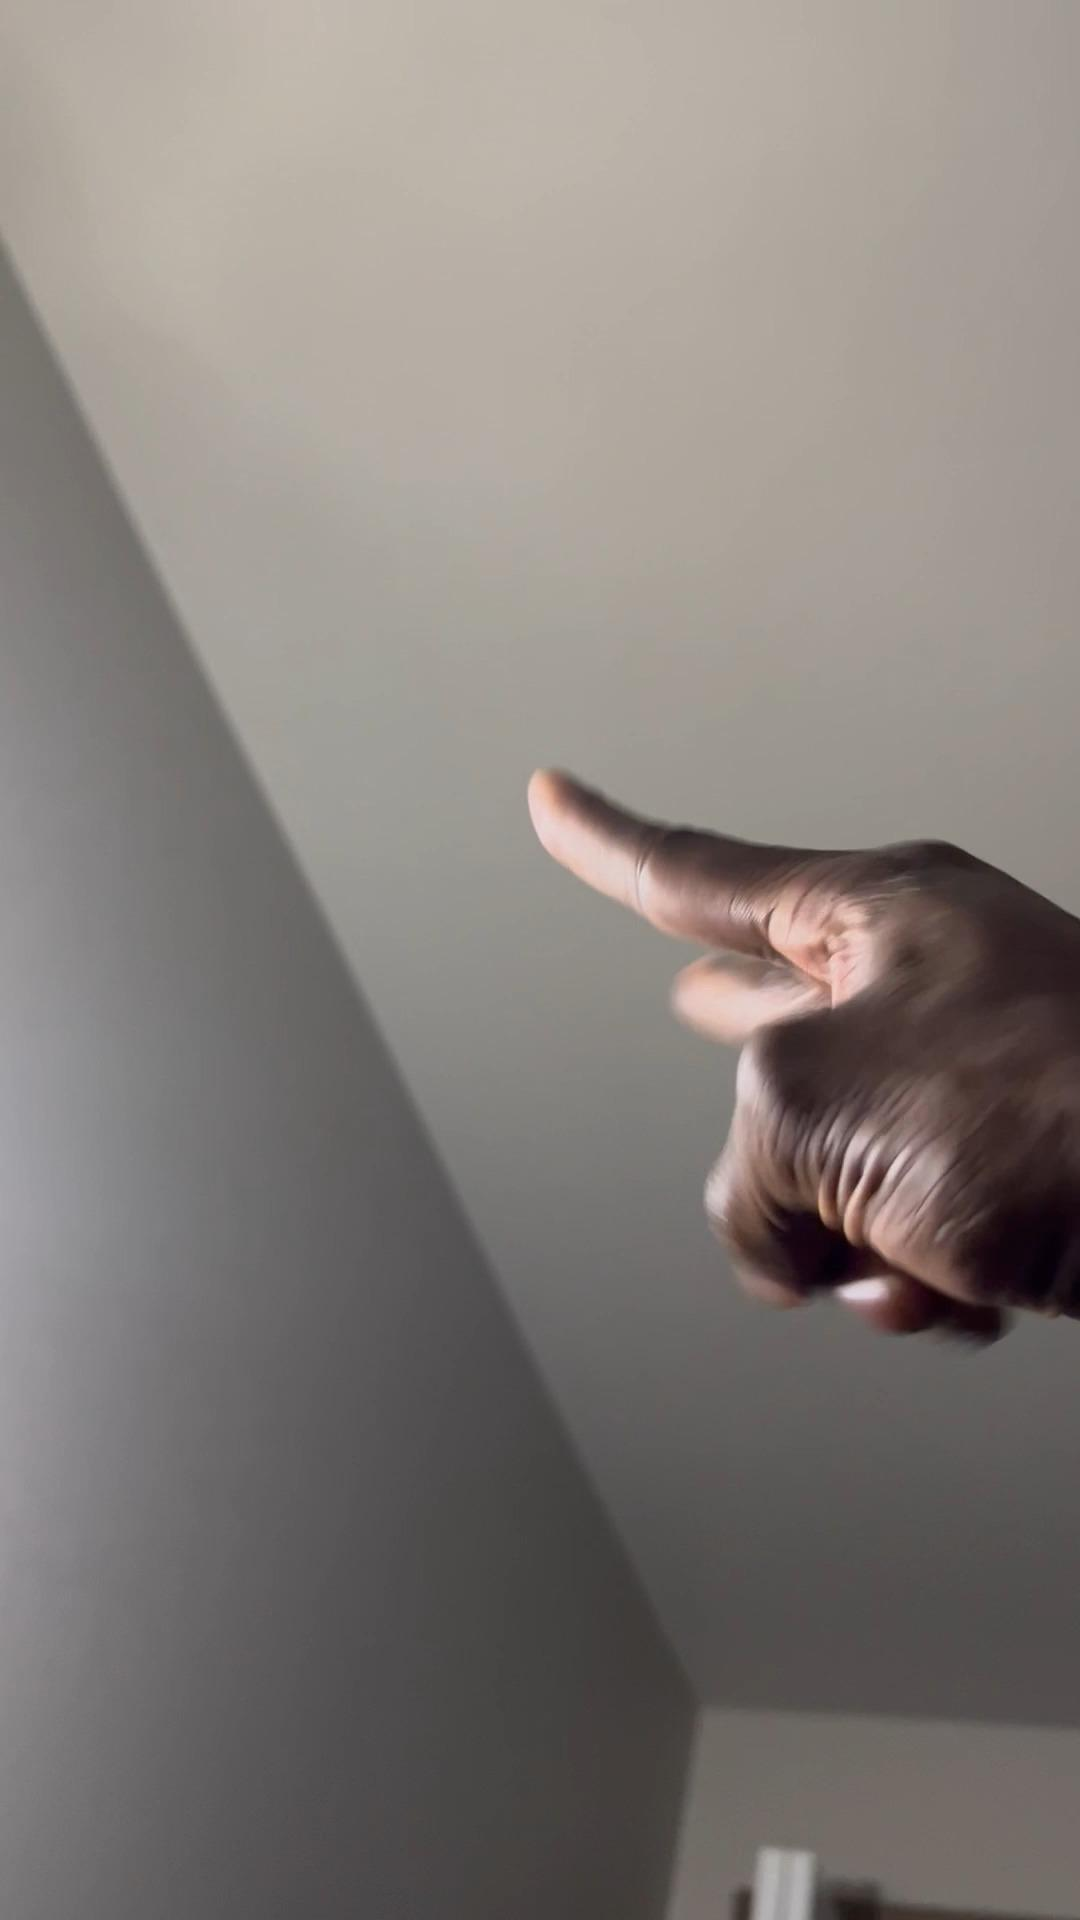Scissors: (520, 770, 1080, 1348)
